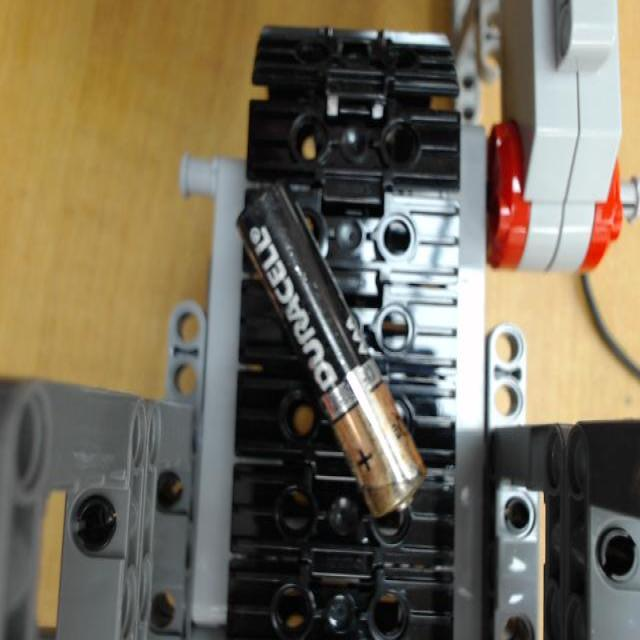AAA: (237, 182, 428, 517)
